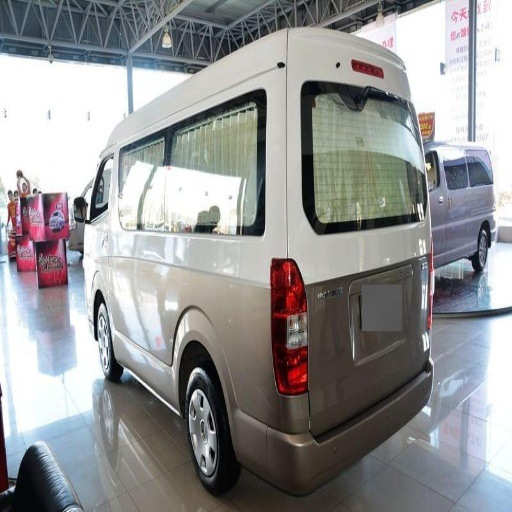back_left_light: (269, 261, 307, 394)
back_right_door: (113, 95, 251, 290)
trunk: (128, 238, 280, 425), (291, 230, 427, 429), (317, 109, 365, 185)
